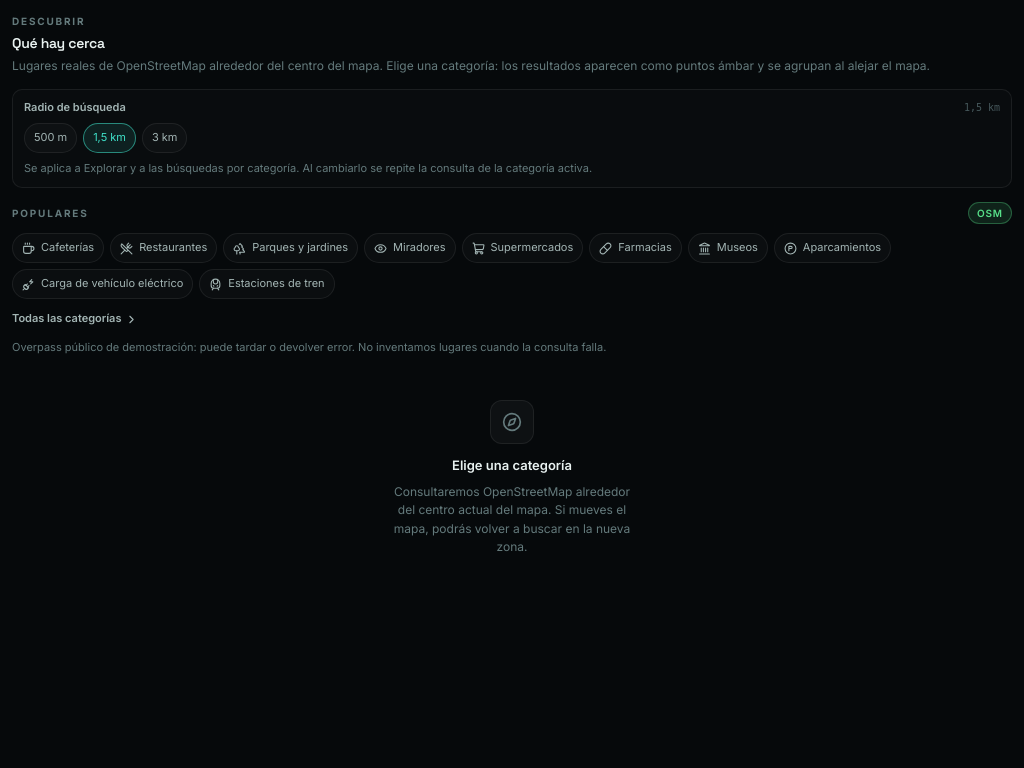
ExplorePanel › muestra el error de Overpass sin inventar resultados
The width and height of the screenshot is (1024, 768).
Click the button "Farmacias": (636, 248) left=589, top=233, right=682, bottom=263
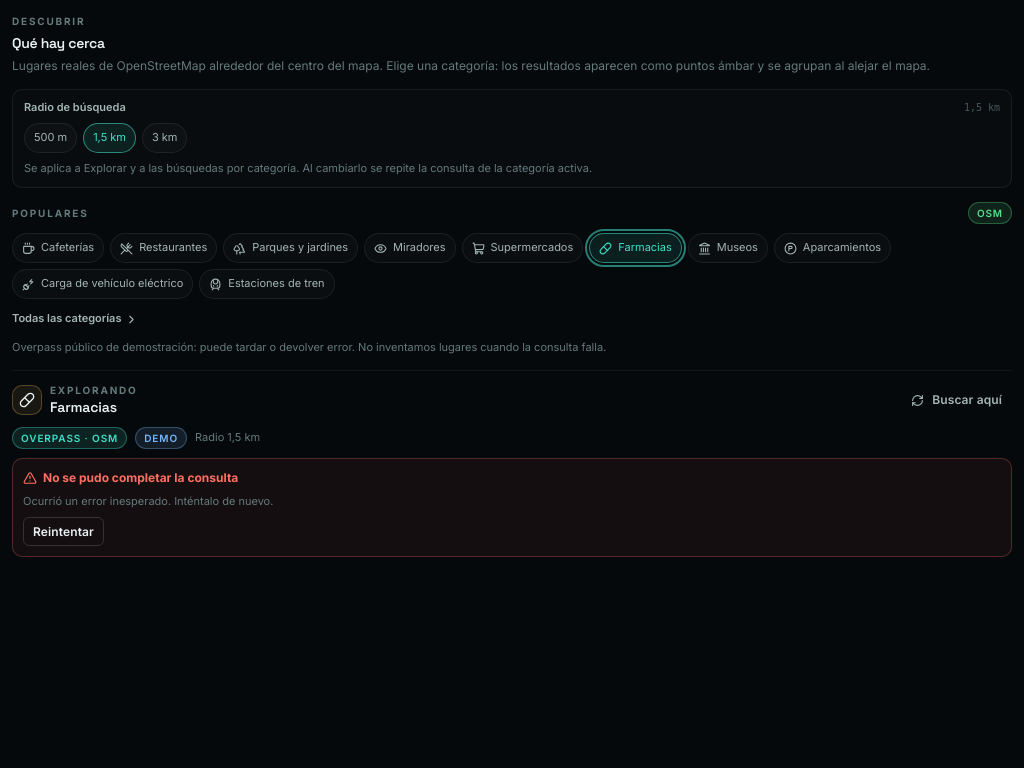
Expected: the message shows "No se pudo completar la consulta", left=43, top=470, right=238, bottom=485
